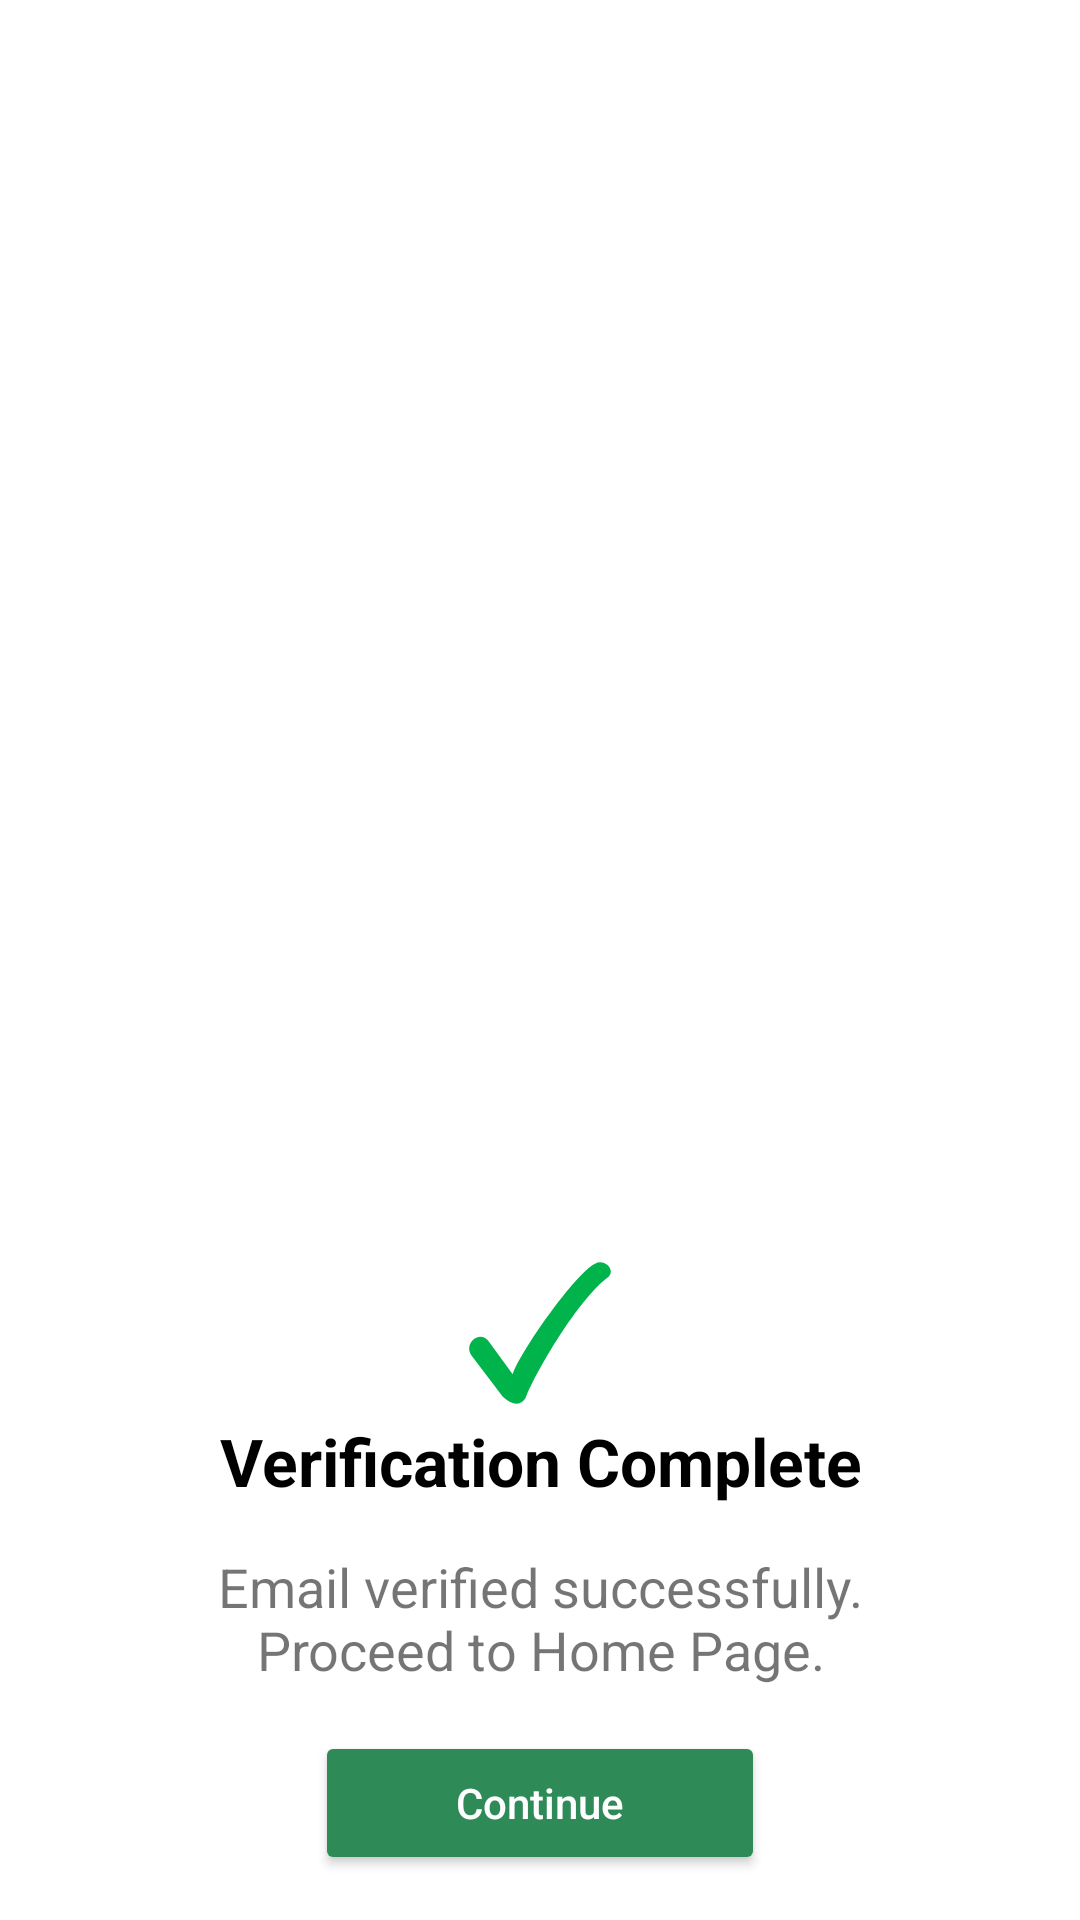

Locate icon controls on the screen. Image size 1080*1920, boxes as (x1, y1, x2, y2).
ready: (469, 1262, 611, 1404)
